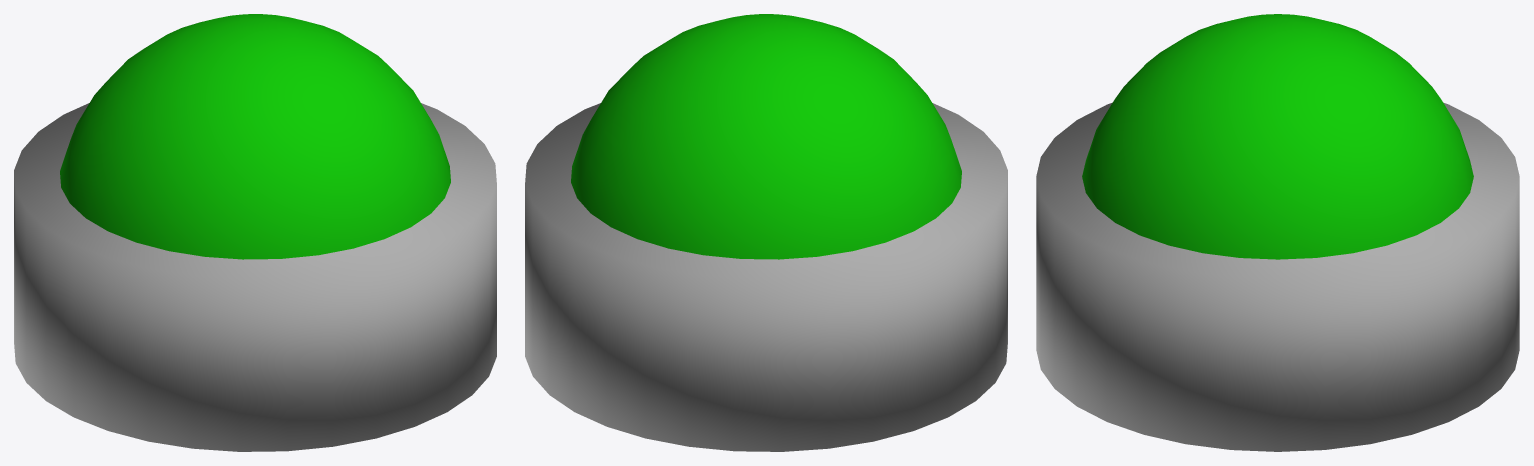
File: playbutton.fbx
3 views of the same model, side by side, from view 1: azimuth 30°, elevation 25°; view 2: azimuth 150°, elevation 25°; view 3: azimuth 270°, elevation 25° (orthographic).
Visible parts, largest first — view 1: Sphere; view 2: Sphere; view 3: Sphere.
Part boxes in pixels (x1,y1,x2,y2): Sphere: (14, 14, 496, 451); Sphere: (525, 14, 1007, 451); Sphere: (1036, 14, 1519, 451).
Bounding box in the file's own units: 143 × 119 × 143.
